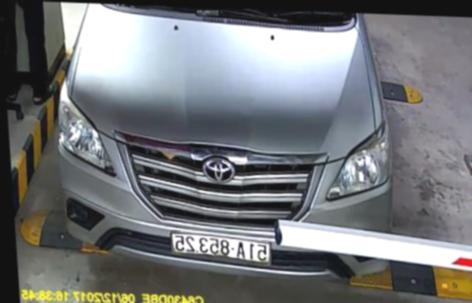License_Plate: (167, 232, 268, 264)
